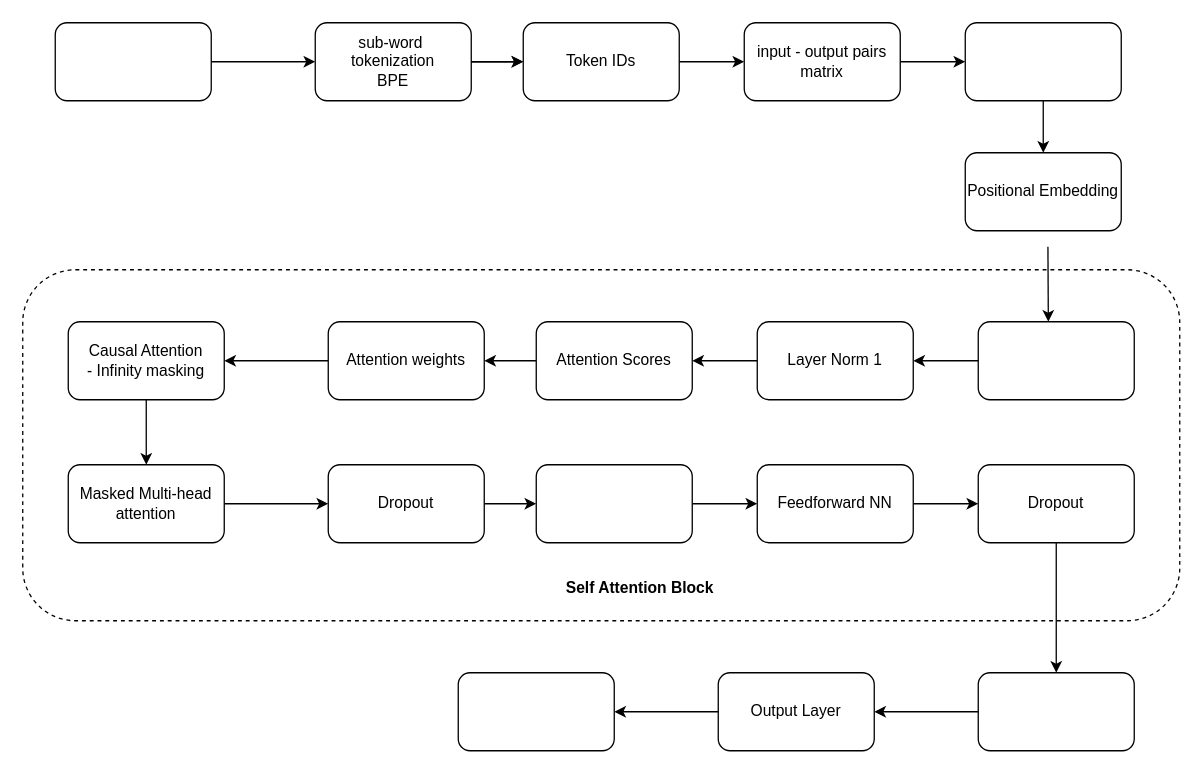
This 1203x774 diagram has some shape labels left out. Each missing label, with the centre of its shape:
"corpus" belongs at point 132,61.
"Final Layer Norm" belongs at point 1055,711.
"Layer Norm 2" belongs at point 613,503.
"Logits matrix for next token prediction" belongs at point 535,711.
"Self Attention Q, K, V" belongs at point 1055,360.
"Token Embedding multi dim vectors" belongs at point 1042,61.
